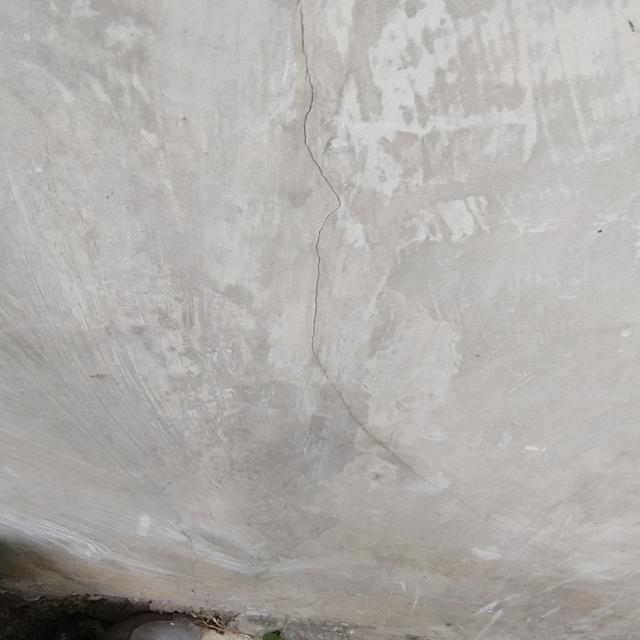Crack: (294, 1, 472, 501)
